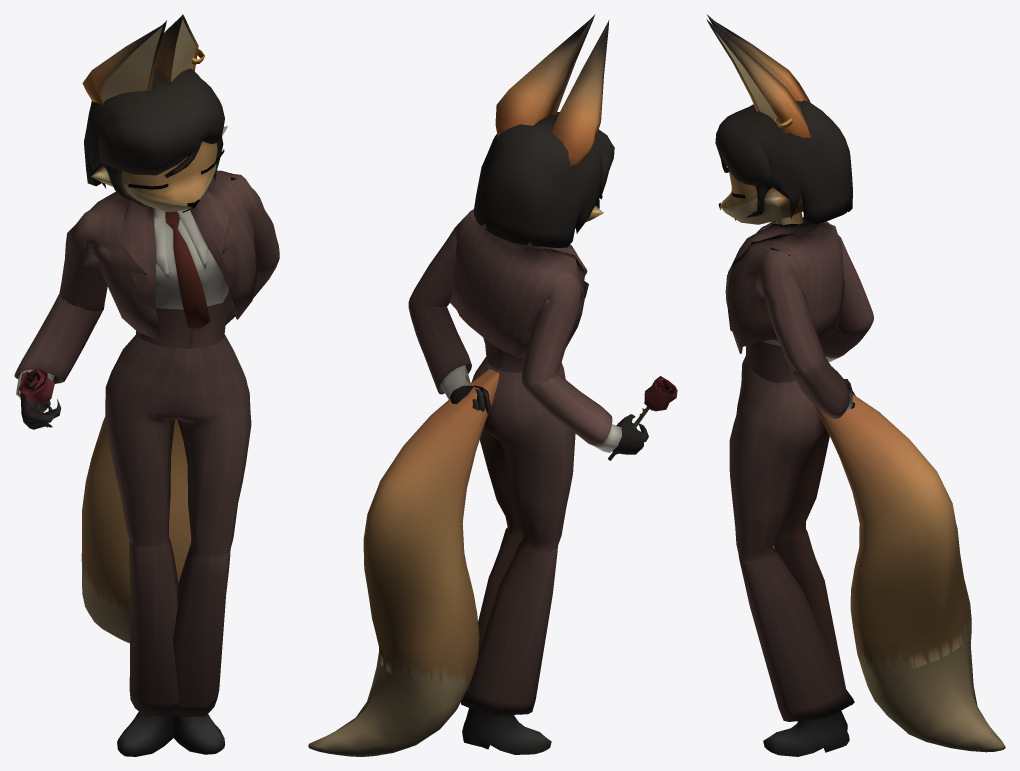
Rendered from cheri_the_faux.obj.
3 views of the same model, side by side, from view 1: azimuth 30°, elevation 25°; view 2: azimuth 150°, elevation 25°; view 3: azimuth 270°, elevation 25° (orthographic). The views are drawn at different scales.
Visible parts, largest first — view 1: obj3, obj2, obj1, obj4; view 2: obj3, obj2, obj1, obj4; view 3: obj3, obj2, obj1.
Part boxes in pixels (x1,y1,x2,y2): obj3: (81, 334, 251, 756); obj2: (14, 170, 279, 429); obj1: (82, 14, 227, 212); obj4: (19, 368, 54, 427); obj3: (308, 356, 575, 756); obj2: (408, 209, 648, 454); obj1: (474, 14, 614, 247); obj4: (608, 376, 677, 460); obj3: (729, 356, 1005, 756); obj2: (725, 217, 873, 419); obj1: (706, 14, 852, 225).
Bounding box in the file's own units: 17.69 × 46.65 × 17.99.
4 materials, 4 textured.
